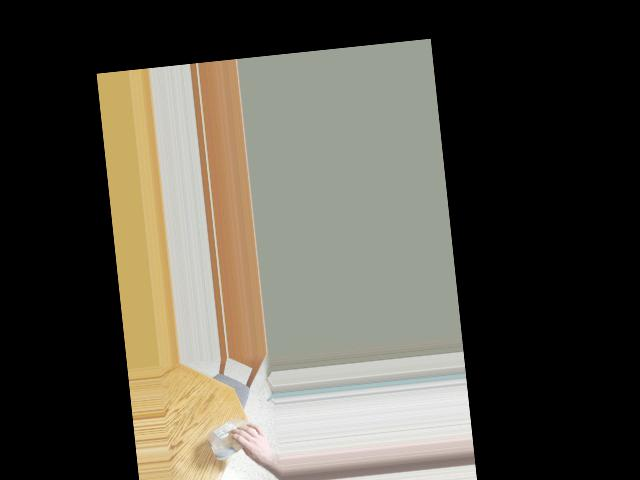cheese: (209, 422, 253, 456)
